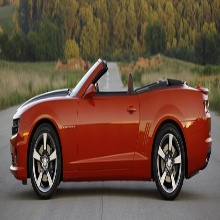no damage: (9, 58, 213, 201)
